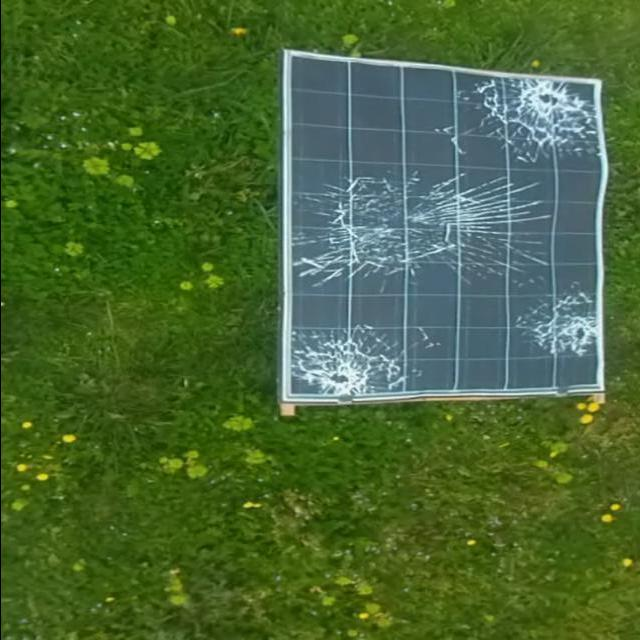cracked: (282, 50, 602, 408)
